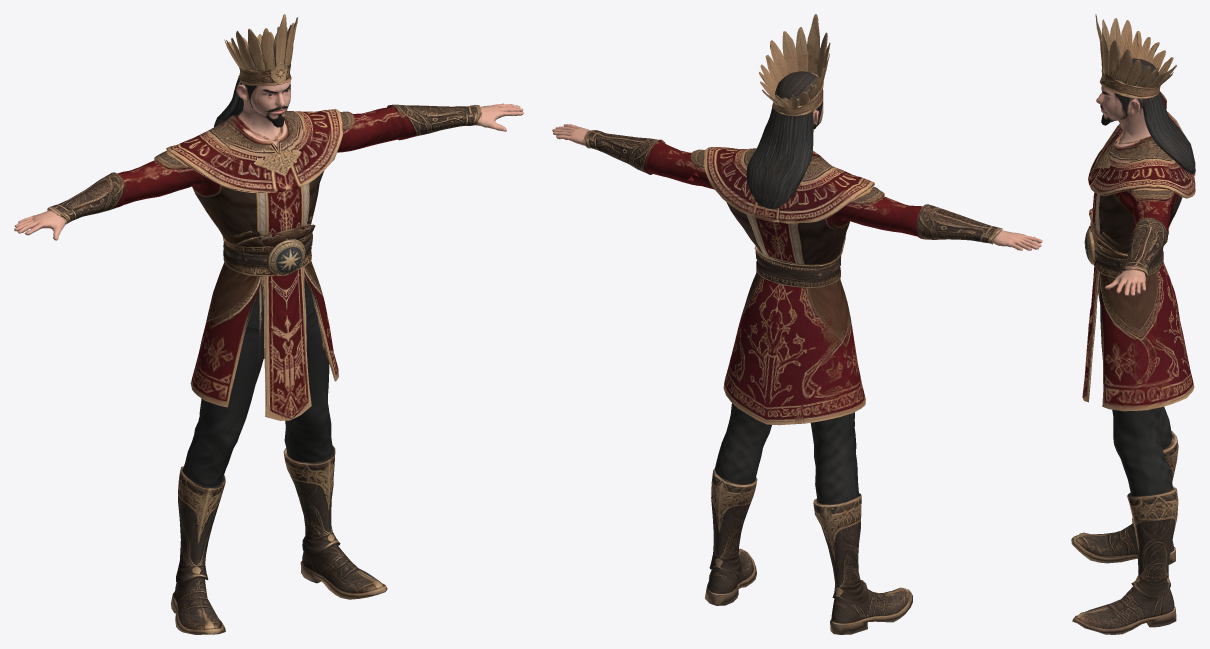
The model's file is hung_vuong_mesh.fbx.
3 views of the same model, side by side, from view 1: azimuth 30°, elevation 25°; view 2: azimuth 150°, elevation 25°; view 3: azimuth 270°, elevation 25° (orthographic). The views are drawn at different scales.
Visible parts, largest first — view 1: Mesh_0; view 2: Mesh_0; view 3: Mesh_0.
Part boxes in pixels (<box>): Mesh_0: <box>14,14,523,634</box>; Mesh_0: <box>552,14,1042,634</box>; Mesh_0: <box>1071,14,1195,634</box>.
Size of the model in its own units: 88.17 by 100 by 19.61.
1 material, 1 textured.
